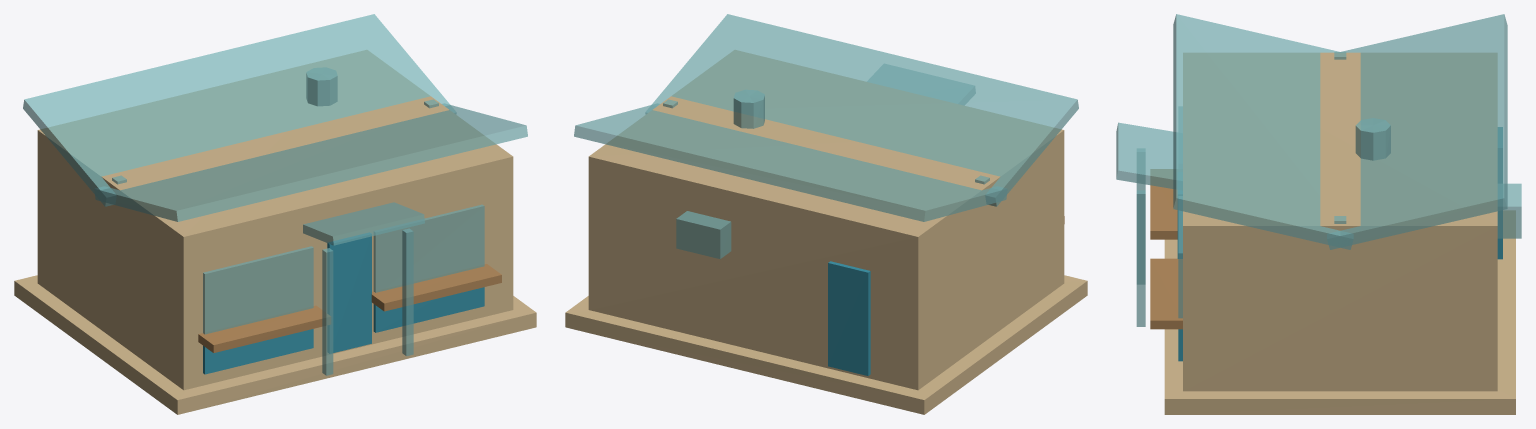
Rendered from restaurant.source.glb.
3 views of the same model, side by side, from view 1: azimuth 30°, elevation 25°; view 2: azimuth 150°, elevation 25°; view 3: azimuth 270°, elevation 25° (orthographic). The views are drawn at different scales.
Visible parts, largest first — view 1: restaurant-compact-restaurant-shell-mesh, restaurant-shallow-hip-like-roof--1.05-mesh, restaurant-shallow-hip-like-roof-1.05-mesh, restaurant-grounded-restaurant-slab-mesh, restaurant-broad-dark-window-1.35-mesh, restaurant-broad-dark-window--1.55-mesh, restaurant-sheltered-main-door-mesh, restaurant-slim-entry-canopy-mesh, restaurant-fixed-timber-ledge--1.55-mesh, restaurant-fixed-timber-ledge-1.35-mesh, restaurant-muted-teal-lower-panel-1.35-mesh, restaurant-muted-teal-lower-panel--1.55-mesh (+3 smaller); view 2: restaurant-compact-restaurant-shell-mesh, restaurant-shallow-hip-like-roof-1.05-mesh, restaurant-shallow-hip-like-roof--1.05-mesh, restaurant-grounded-restaurant-slab-mesh, restaurant-rear-kitchen-door-mesh, restaurant-rear-kitchen-vent-mesh, restaurant-slim-entry-canopy-mesh, restaurant-restrained-roof-vent-mesh; view 3: restaurant-compact-restaurant-shell-mesh, restaurant-shallow-hip-like-roof-1.05-mesh, restaurant-shallow-hip-like-roof--1.05-mesh, restaurant-grounded-restaurant-slab-mesh, restaurant-slim-entry-canopy-mesh, restaurant-fixed-timber-ledge-1.35-mesh, restaurant-fixed-timber-ledge--1.55-mesh, restaurant-restrained-roof-vent-mesh, restaurant-canopy-post-0.68-mesh, restaurant-rear-kitchen-vent-mesh, restaurant-canopy-post--0.68-mesh, restaurant-broad-dark-window-1.35-mesh (+1 smaller).
Part boxes in pixels (x1=…): restaurant-compact-restaurant-shell-mesh: x1=37, y1=50, x2=513, y2=390; restaurant-shallow-hip-like-roof--1.05-mesh: x1=23, y1=14, x2=455, y2=206; restaurant-shallow-hip-like-roof-1.05-mesh: x1=95, y1=104, x2=527, y2=221; restaurant-grounded-restaurant-slab-mesh: x1=14, y1=275, x2=536, y2=414; restaurant-broad-dark-window-1.35-mesh: x1=373, y1=204, x2=484, y2=292; restaurant-broad-dark-window--1.55-mesh: x1=203, y1=246, x2=313, y2=334; restaurant-sheltered-main-door-mesh: x1=327, y1=232, x2=371, y2=353; restaurant-slim-entry-canopy-mesh: x1=303, y1=202, x2=424, y2=245; restaurant-fixed-timber-ledge--1.55-mesh: x1=198, y1=305, x2=330, y2=352; restaurant-fixed-timber-ledge-1.35-mesh: x1=371, y1=264, x2=501, y2=311; restaurant-muted-teal-lower-panel-1.35-mesh: x1=373, y1=287, x2=484, y2=332; restaurant-muted-teal-lower-panel--1.55-mesh: x1=203, y1=329, x2=313, y2=374; restaurant-compact-restaurant-shell-mesh: x1=588, y1=50, x2=1064, y2=390; restaurant-shallow-hip-like-roof-1.05-mesh: x1=646, y1=14, x2=1078, y2=206; restaurant-shallow-hip-like-roof--1.05-mesh: x1=574, y1=104, x2=1007, y2=221; restaurant-grounded-restaurant-slab-mesh: x1=565, y1=275, x2=1087, y2=414; restaurant-rear-kitchen-door-mesh: x1=828, y1=261, x2=870, y2=375; restaurant-rear-kitchen-vent-mesh: x1=676, y1=211, x2=731, y2=258; restaurant-slim-entry-canopy-mesh: x1=867, y1=64, x2=975, y2=104; restaurant-restrained-roof-vent-mesh: x1=733, y1=89, x2=764, y2=128; restaurant-compact-restaurant-shell-mesh: x1=1183, y1=52, x2=1497, y2=391; restaurant-shallow-hip-like-roof-1.05-mesh: x1=1173, y1=14, x2=1353, y2=249; restaurant-shallow-hip-like-roof--1.05-mesh: x1=1327, y1=14, x2=1507, y2=249; restaurant-grounded-restaurant-slab-mesh: x1=1164, y1=210, x2=1515, y2=414; restaurant-slim-entry-canopy-mesh: x1=1116, y1=122, x2=1182, y2=189; restaurant-fixed-timber-ledge-1.35-mesh: x1=1150, y1=258, x2=1182, y2=329; restaurant-fixed-timber-ledge--1.55-mesh: x1=1150, y1=169, x2=1177, y2=239; restaurant-restrained-roof-vent-mesh: x1=1355, y1=118, x2=1390, y2=160; restaurant-canopy-post-0.68-mesh: x1=1136, y1=190, x2=1145, y2=326; restaurant-rear-kitchen-vent-mesh: x1=1497, y1=183, x2=1521, y2=238; restaurant-canopy-post--0.68-mesh: x1=1136, y1=149, x2=1145, y2=283; restaurant-broad-dark-window-1.35-mesh: x1=1178, y1=196, x2=1182, y2=318.
Size of the model in its own units: 6.1 by 3.43 by 5.53.
